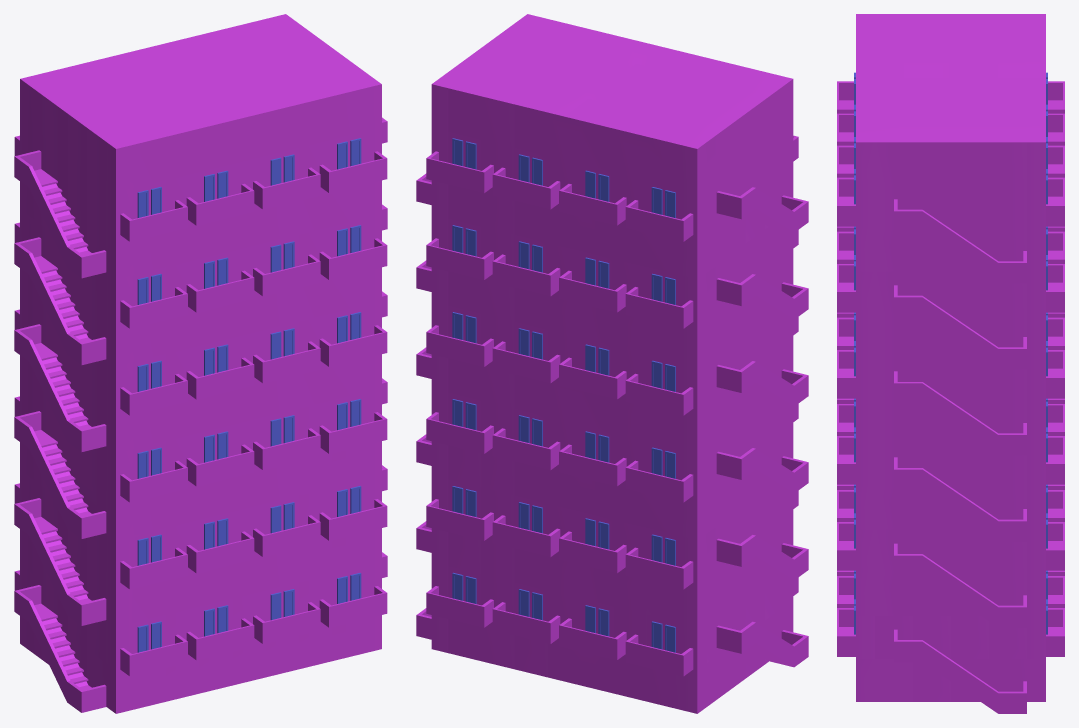
Rendered from Prop_Houses2_M.fbx.
The picture shows the model from 3 angles, left to right: view 1: azimuth 30°, elevation 25°; view 2: azimuth 150°, elevation 25°; view 3: azimuth 270°, elevation 25°; orthographic projection.
Visible parts, largest first — view 1: Environment_ModularBuildingSet_Stairs_BertaH_M.012; view 2: Environment_ModularBuildingSet_Stairs_BertaH_M.012; view 3: Environment_ModularBuildingSet_Stairs_BertaH_M.012.
Boxes of the visible parts, x1,y1,x2,y2 form: Environment_ModularBuildingSet_Stairs_BertaH_M.012: [14, 14, 387, 713]; Environment_ModularBuildingSet_Stairs_BertaH_M.012: [416, 14, 808, 713]; Environment_ModularBuildingSet_Stairs_BertaH_M.012: [837, 14, 1064, 713].
Bounding box in the file's own units: 1900 × 3250 × 1200.
